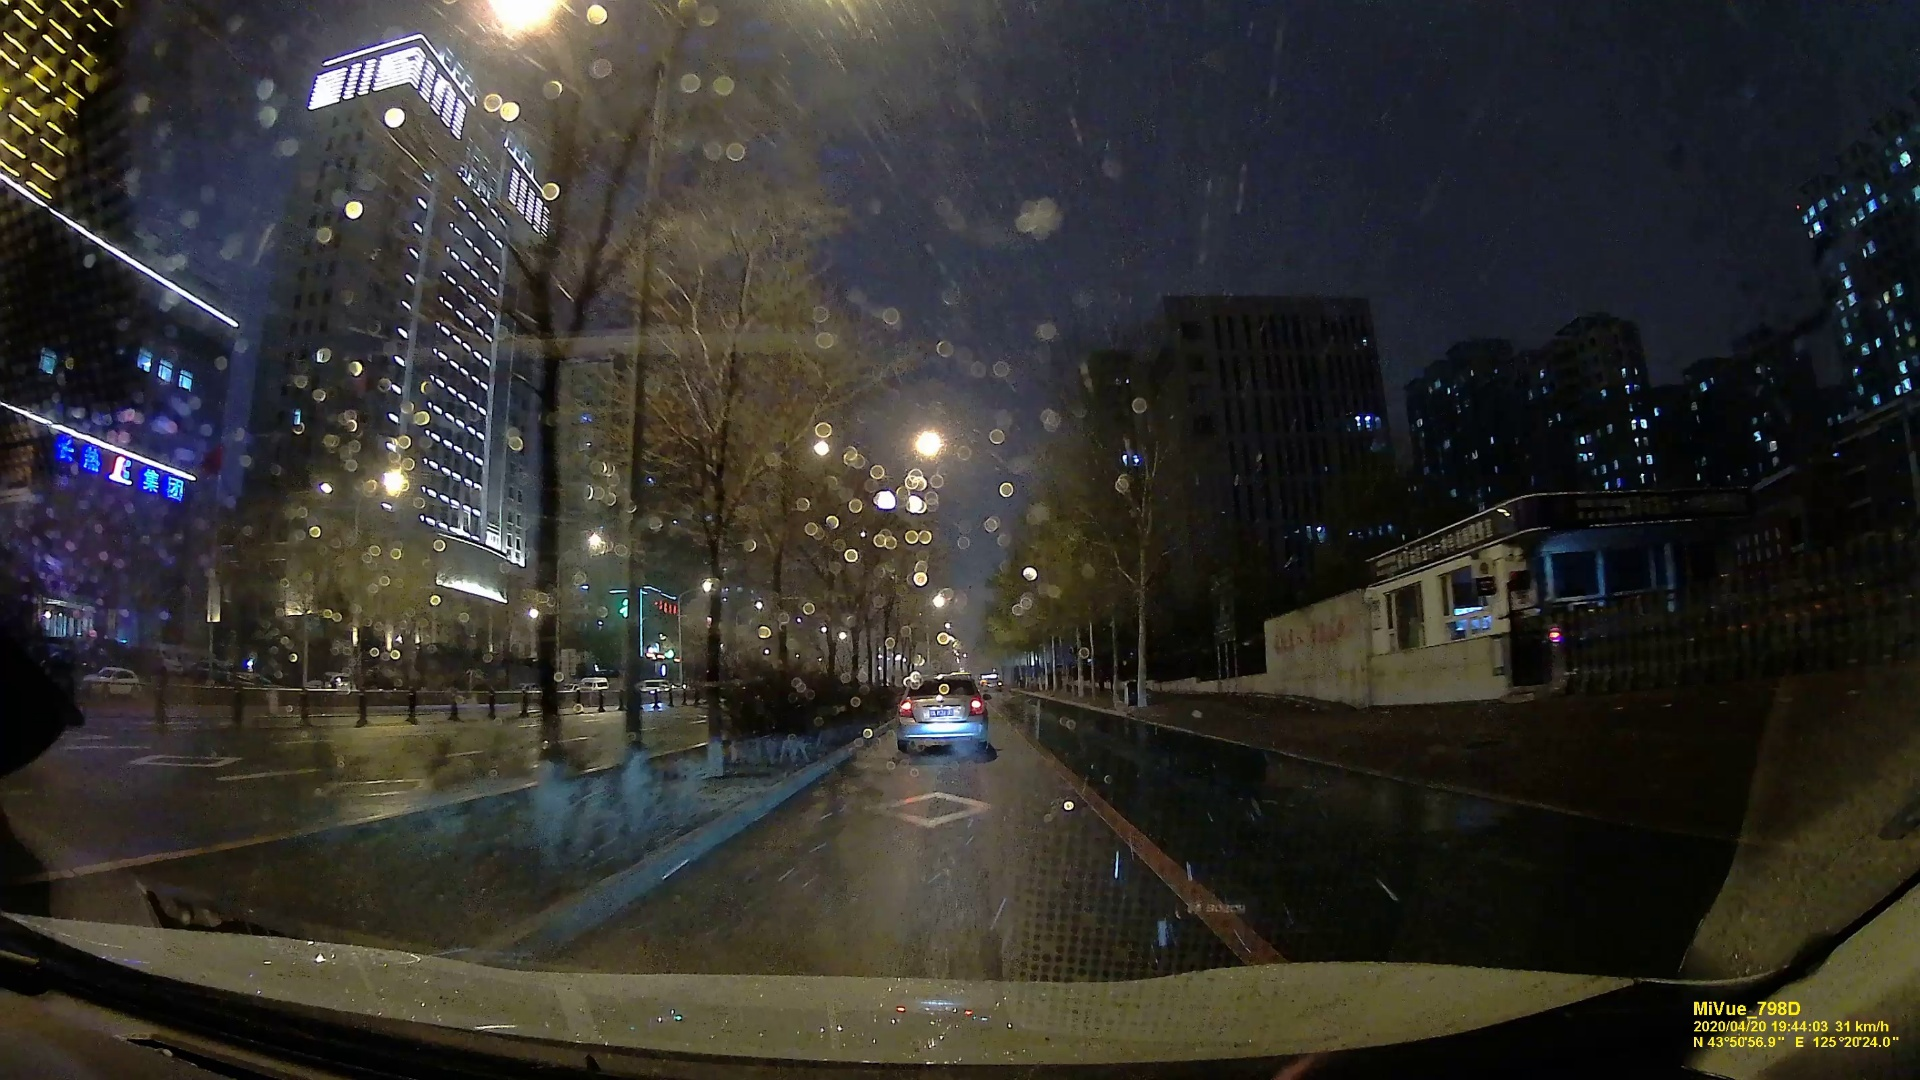vehicle: (895, 679, 988, 748)
